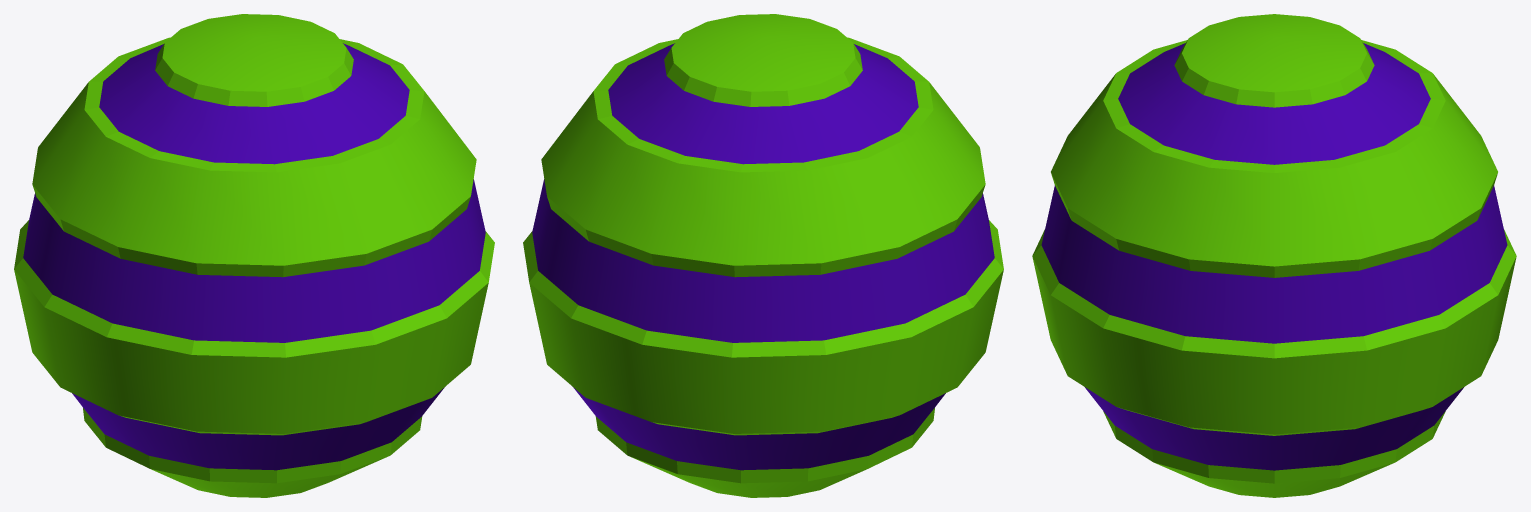
The model's file is DiscoPlanet.FBX.
3 views of the same model, side by side, from view 1: azimuth 30°, elevation 25°; view 2: azimuth 150°, elevation 25°; view 3: azimuth 270°, elevation 25° (orthographic).
Visible parts, largest first — view 1: Sphere005; view 2: Sphere005; view 3: Sphere005.
Boxes of the visible parts, bbox=[...] form: Sphere005: bbox=[14, 14, 494, 497]; Sphere005: bbox=[523, 14, 1003, 497]; Sphere005: bbox=[1032, 14, 1516, 497].
Bounding box in the file's own units: 72.11 × 71.09 × 72.11.
